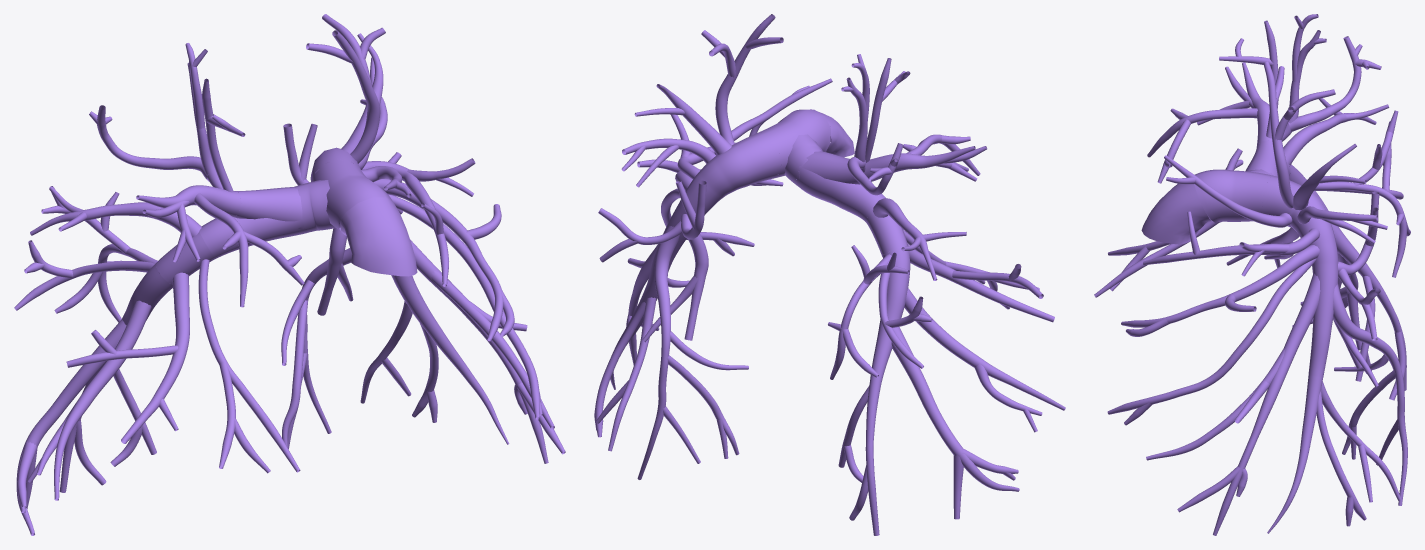
The model's file is pulmonary_arteries.glb.
The picture shows the model from 3 angles, left to right: view 1: azimuth 30°, elevation 25°; view 2: azimuth 150°, elevation 25°; view 3: azimuth 270°, elevation 25°; orthographic projection. The views are drawn at different scales.
Visible parts, largest first — view 1: Anterior segmental artery of right lung, Pulmonary trunk, Apical segmental artery of right lung, Superior segmental artery of right lung, Anterior basal segmental artery of left lung, Lateral basal segmental artery of left lung, Bifurcation of pulmonary trunk, Lateral segmental artery of right lung, Medial segmental artery of right lung, Posterior basal segmental artery of left lung, Lateral basal segmental artery of right lung, Anterior segmental artery of left lung (+15 smaller); view 2: Left pulmonary artery, Posterior basal segmental artery of left lung, Superior segmental artery of right lung, Apical segmental artery of right lung, Anterior basal segmental artery of right lung, Anterior basal segmental artery of left lung, Posterior segmental artery of left lung, Bifurcation of pulmonary trunk, Lateral basal segmental artery of right lung, Anterior segmental artery of right lung, Posterior basal segmental artery of right lung, Lateral segmental artery of right lung (+15 smaller); view 3: Lateral basal segmental artery of left lung, Left pulmonary artery, Anterior basal segmental artery of left lung, Apical segmental artery of right lung, Anterior segmental artery of left lung, Posterior basal segmental artery of left lung, Anterior segmental artery of right lung, Bifurcation of pulmonary trunk, Pulmonary trunk, Superior lingular artery of left lung, Inferior lingular artery of left lung, Superior segmental artery of right lung (+11 smaller).
Boxes of the visible parts, left/top/right/bottom form: Anterior segmental artery of right lung: left=136, top=185, right=304, bottom=307; Pulmonary trunk: left=339, top=197, right=417, bottom=276; Apical segmental artery of right lung: left=89, top=43, right=245, bottom=192; Superior segmental artery of right lung: left=14, top=186, right=159, bottom=322; Anterior basal segmental artery of left lung: left=360, top=291, right=509, bottom=444; Lateral basal segmental artery of left lung: left=410, top=240, right=565, bottom=463; Bifurcation of pulmonary trunk: left=294, top=159, right=392, bottom=235; Lateral segmental artery of right lung: left=66, top=272, right=189, bottom=443; Medial segmental artery of right lung: left=198, top=259, right=300, bottom=473; Posterior basal segmental artery of left lung: left=281, top=248, right=352, bottom=449; Lateral basal segmental artery of right lung: left=27, top=300, right=151, bottom=500; Anterior segmental artery of left lung: left=361, top=158, right=475, bottom=286; Left pulmonary artery: left=645, top=132, right=781, bottom=296; Posterior basal segmental artery of left lung: left=637, top=225, right=748, bottom=479; Superior segmental artery of right lung: left=828, top=245, right=932, bottom=379; Apical segmental artery of right lung: left=841, top=54, right=910, bottom=195; Anterior basal segmental artery of right lung: left=891, top=327, right=1019, bottom=519; Anterior basal segmental artery of left lung: left=594, top=287, right=657, bottom=451; Posterior segmental artery of left lung: left=621, top=84, right=731, bottom=187; Bifurcation of pulmonary trunk: left=759, top=109, right=830, bottom=185; Lateral basal segmental artery of right lung: left=904, top=288, right=1065, bottom=432; Anterior segmental artery of right lung: left=864, top=134, right=987, bottom=181; Posterior basal segmental artery of right lung: left=849, top=323, right=892, bottom=535; Lateral segmental artery of right lung: left=908, top=244, right=1054, bottom=322; Lateral basal segmental artery of left lung: left=1146, top=273, right=1320, bottom=535; Left pulmonary artery: left=1262, top=176, right=1338, bottom=376; Anterior basal segmental artery of left lung: left=1267, top=375, right=1401, bottom=533; Apical segmental artery of right lung: left=1219, top=14, right=1381, bottom=141; Anterior segmental artery of left lung: left=1143, top=155, right=1319, bottom=276; Posterior basal segmental artery of left lung: left=1333, top=283, right=1407, bottom=505; Anterior segmental artery of right lung: left=1147, top=62, right=1272, bottom=183; Bifurcation of pulmonary trunk: left=1194, top=169, right=1273, bottom=222; Pulmonary trunk: left=1141, top=174, right=1212, bottom=244; Superior lingular artery of left lung: left=1121, top=245, right=1319, bottom=336; Inferior lingular artery of left lung: left=1107, top=258, right=1316, bottom=425; Superior segmental artery of right lung: left=1314, top=110, right=1410, bottom=277.
Bounding box in the file's own units: 0.256 × 0.2397 × 0.1658.
